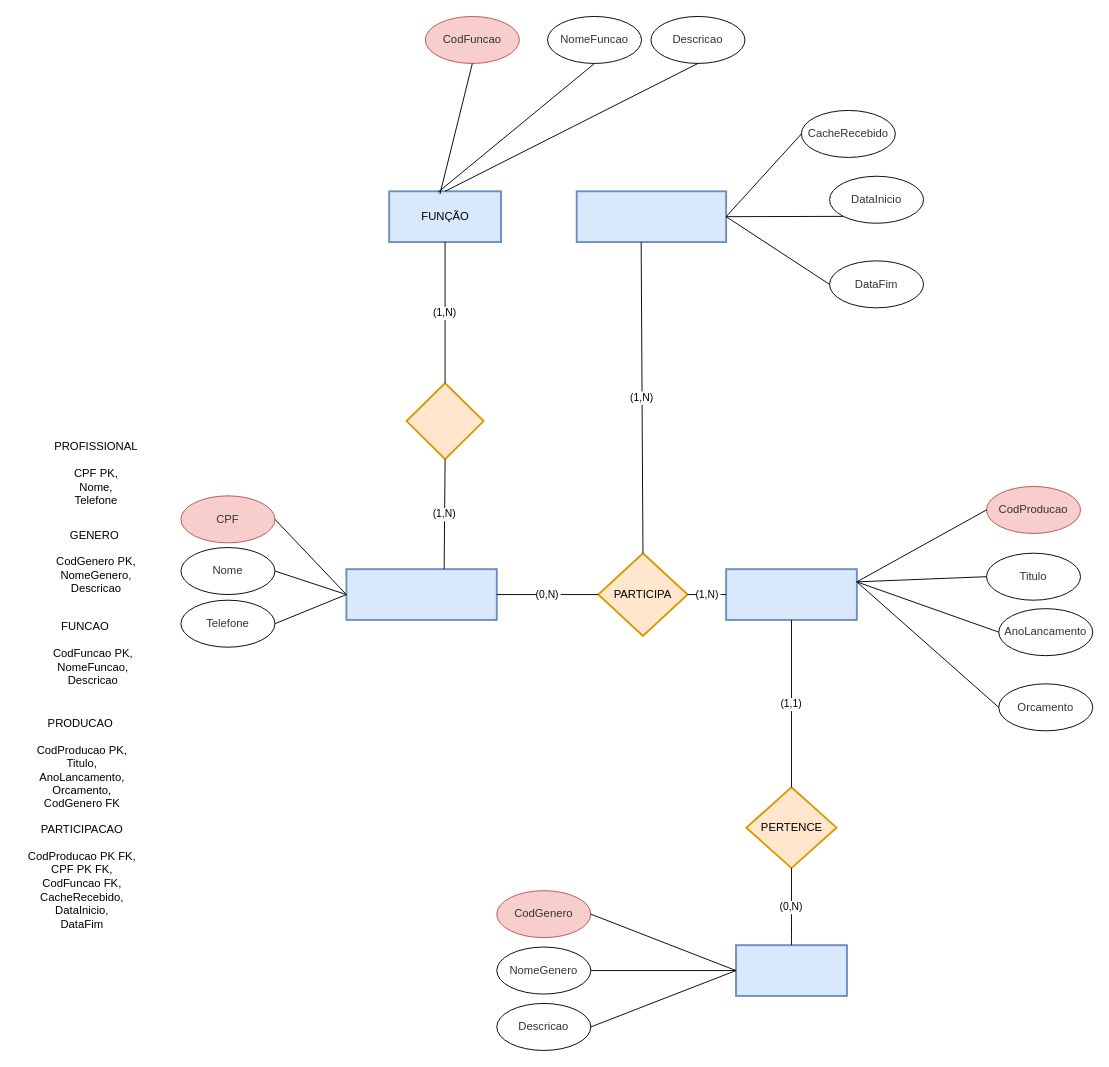
Some shapes in this 1109 by 1067 pixel diagram are drawn without their labels. Here are the shapes that lost their labels. From the top down, the centre of each, then its label:
At (651,216): "PARTICIPAÇÃO".
At (444,421): "EXERCE".
At (421,594): "PROFISSIONAL".
At (791,594): "PRODUÇÃO".
At (791,970): "GÊNERO".
